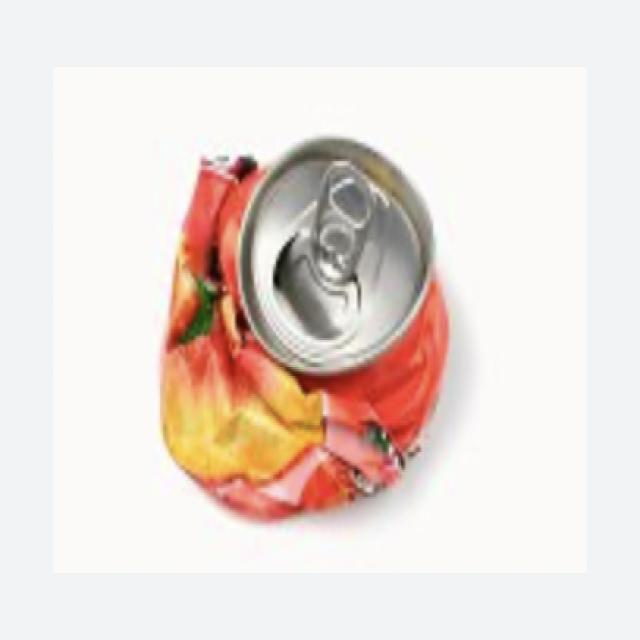recyclable: (161, 123, 477, 538)
